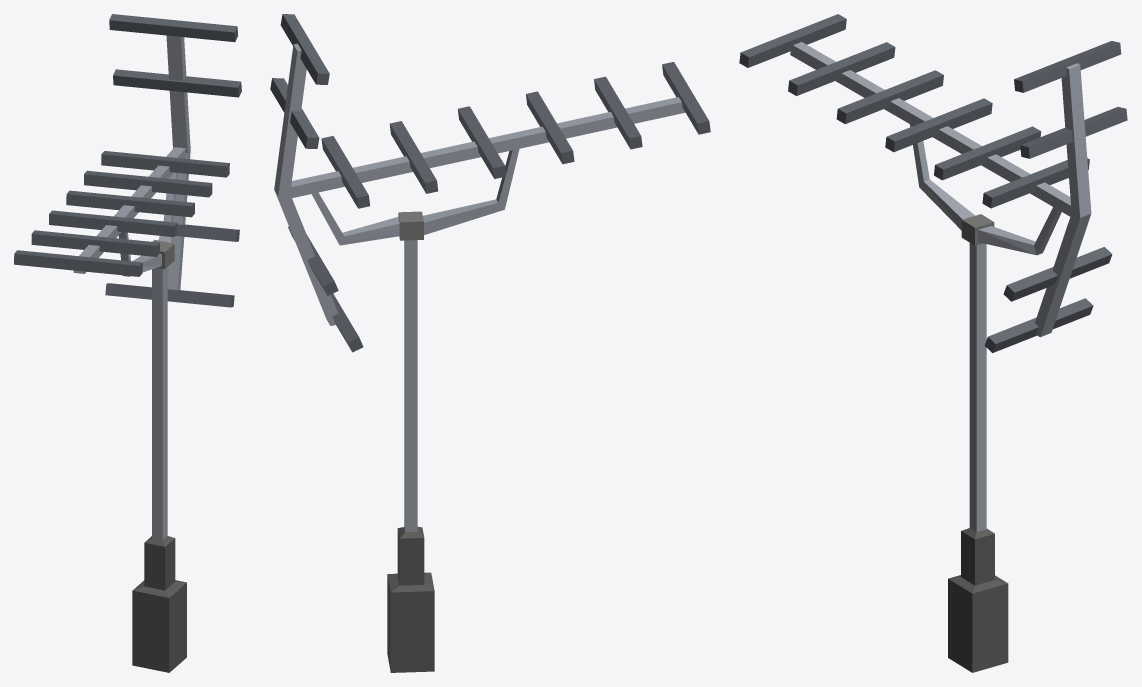
Rendered from SM_Prop_Roof_Satellite_01.obj.
3 views of the same model, side by side, from view 1: azimuth 30°, elevation 25°; view 2: azimuth 150°, elevation 25°; view 3: azimuth 270°, elevation 25° (orthographic). The views are drawn at different scales.
Visible parts, largest first — view 1: SM_Prop_Roof_Satellite_01_0; view 2: SM_Prop_Roof_Satellite_01_0; view 3: SM_Prop_Roof_Satellite_01_0.
Part boxes in pixels (bbox=[...]): SM_Prop_Roof_Satellite_01_0: bbox=[14, 14, 241, 672]; SM_Prop_Roof_Satellite_01_0: bbox=[270, 14, 710, 672]; SM_Prop_Roof_Satellite_01_0: bbox=[739, 14, 1127, 672].
Bounding box in the file's own units: 1.12 × 1.99 × 1.11.
Materials: 1 (1 with a texture image).
